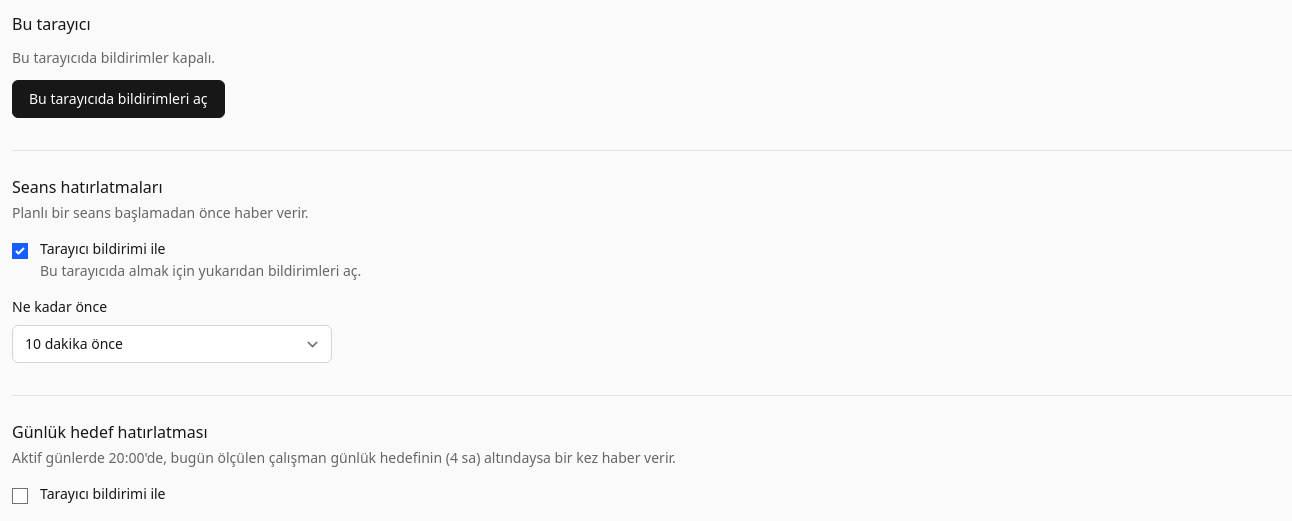
Test: subscribes this browser with the site key and can turn it off again
Expected: the text "Bu tarayıcıda bildirimler kapalı." is shown, [12,48,215,67]
Expected: the text "Bu tarayıcıda almak için yukarıdan bildirimleri aç." is shown, [40,261,361,281]
Click the button "Bu tarayıcıda bildirimleri aç" at (118, 99), box [12,80,224,118]
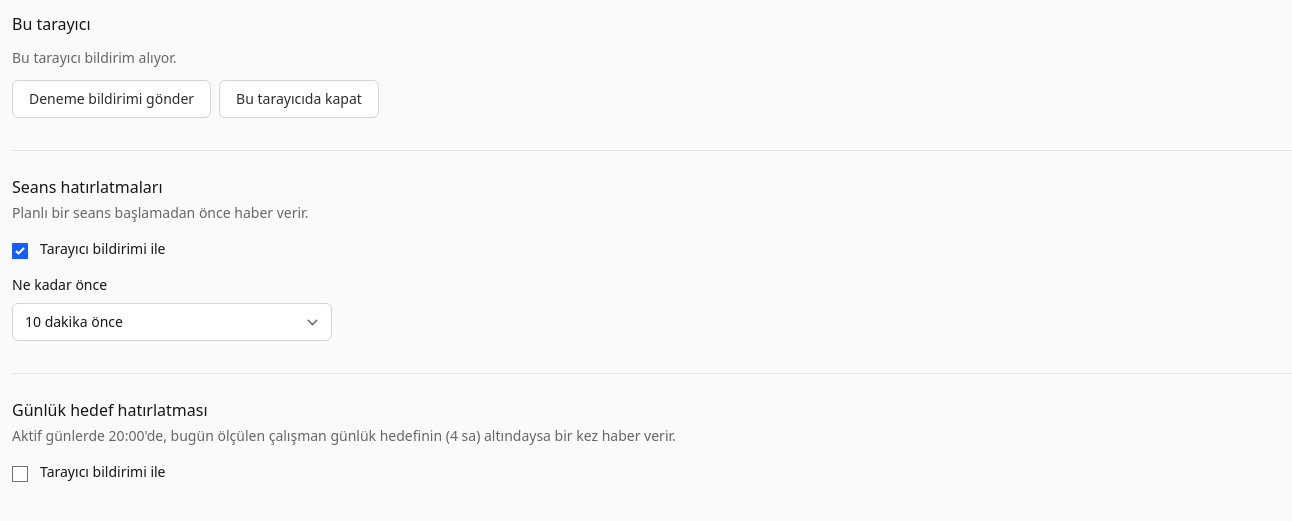
Expected: the text "Bu tarayıcı bildirim alıyor." is shown, [12,48,176,67]
Expected: the text "Bu tarayıcıda almak için yukarıdan bildirimleri aç." is gone
Click the button "Bu tarayıcıda kapat" at (299, 99), box [219,80,379,118]
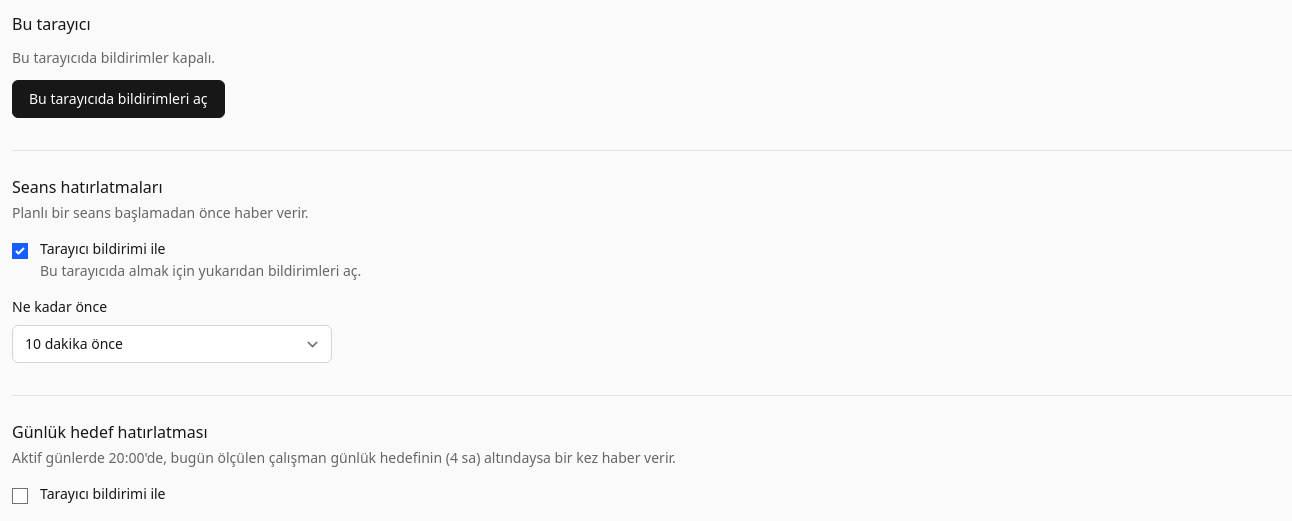
Expected: the text "Bu tarayıcıda bildirimler kapalı." is shown, [12,48,215,67]
